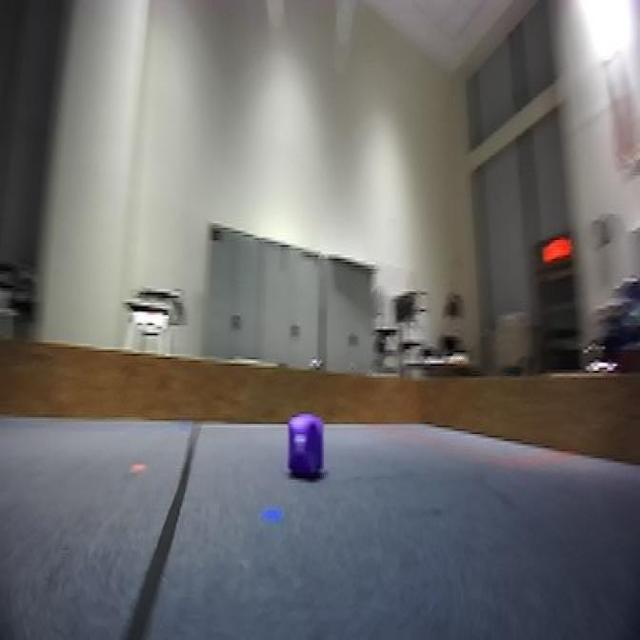frc_cube: (288, 419, 326, 483)
